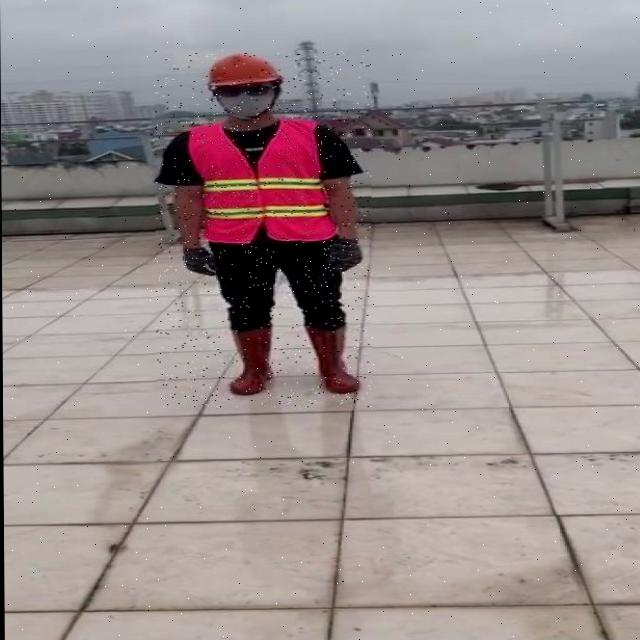Gloves: (325, 236, 362, 271), (181, 246, 217, 276)
Helmet: (206, 52, 283, 118)
Safety-Boot: (304, 323, 360, 394), (228, 324, 272, 395)
Safety-Vest: (184, 118, 337, 245)
